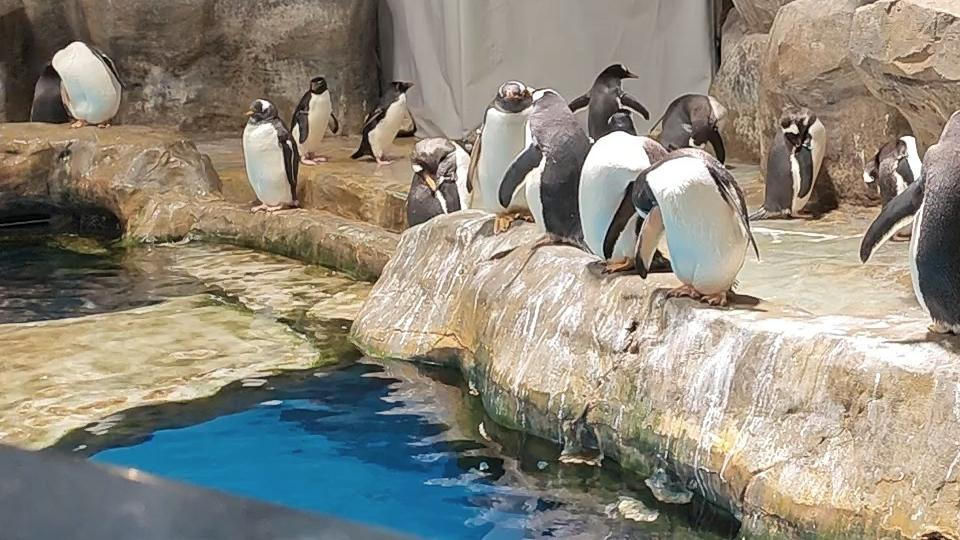Southern Rockhopper Penguin: (344, 73, 420, 172), (277, 73, 343, 169)
